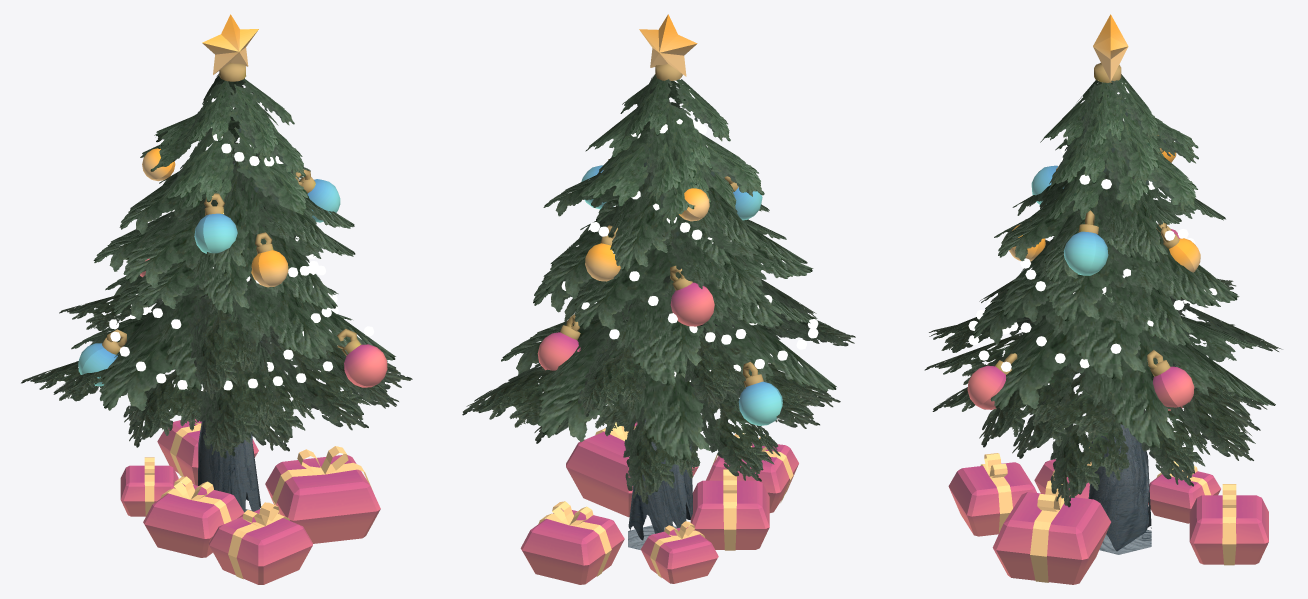
File: Elka_02.fbx
3 renders of one model, left to right at view 1: azimuth 30°, elevation 25°; view 2: azimuth 150°, elevation 25°; view 3: azimuth 270°, elevation 25°, orthographic. The views are drawn at different scales.
Parts seen in each view (by area): view 1: frostivus_tree.vmdl_c.frostivus_tree; view 2: frostivus_tree.vmdl_c.frostivus_tree; view 3: frostivus_tree.vmdl_c.frostivus_tree.
Boxes of the visible parts, box(x1,y1,x2,y2) form: frostivus_tree.vmdl_c.frostivus_tree: box(21, 14, 412, 584); frostivus_tree.vmdl_c.frostivus_tree: box(462, 14, 855, 584); frostivus_tree.vmdl_c.frostivus_tree: box(924, 14, 1282, 584).
Size of the model in its own units: 174 by 248 by 168.
